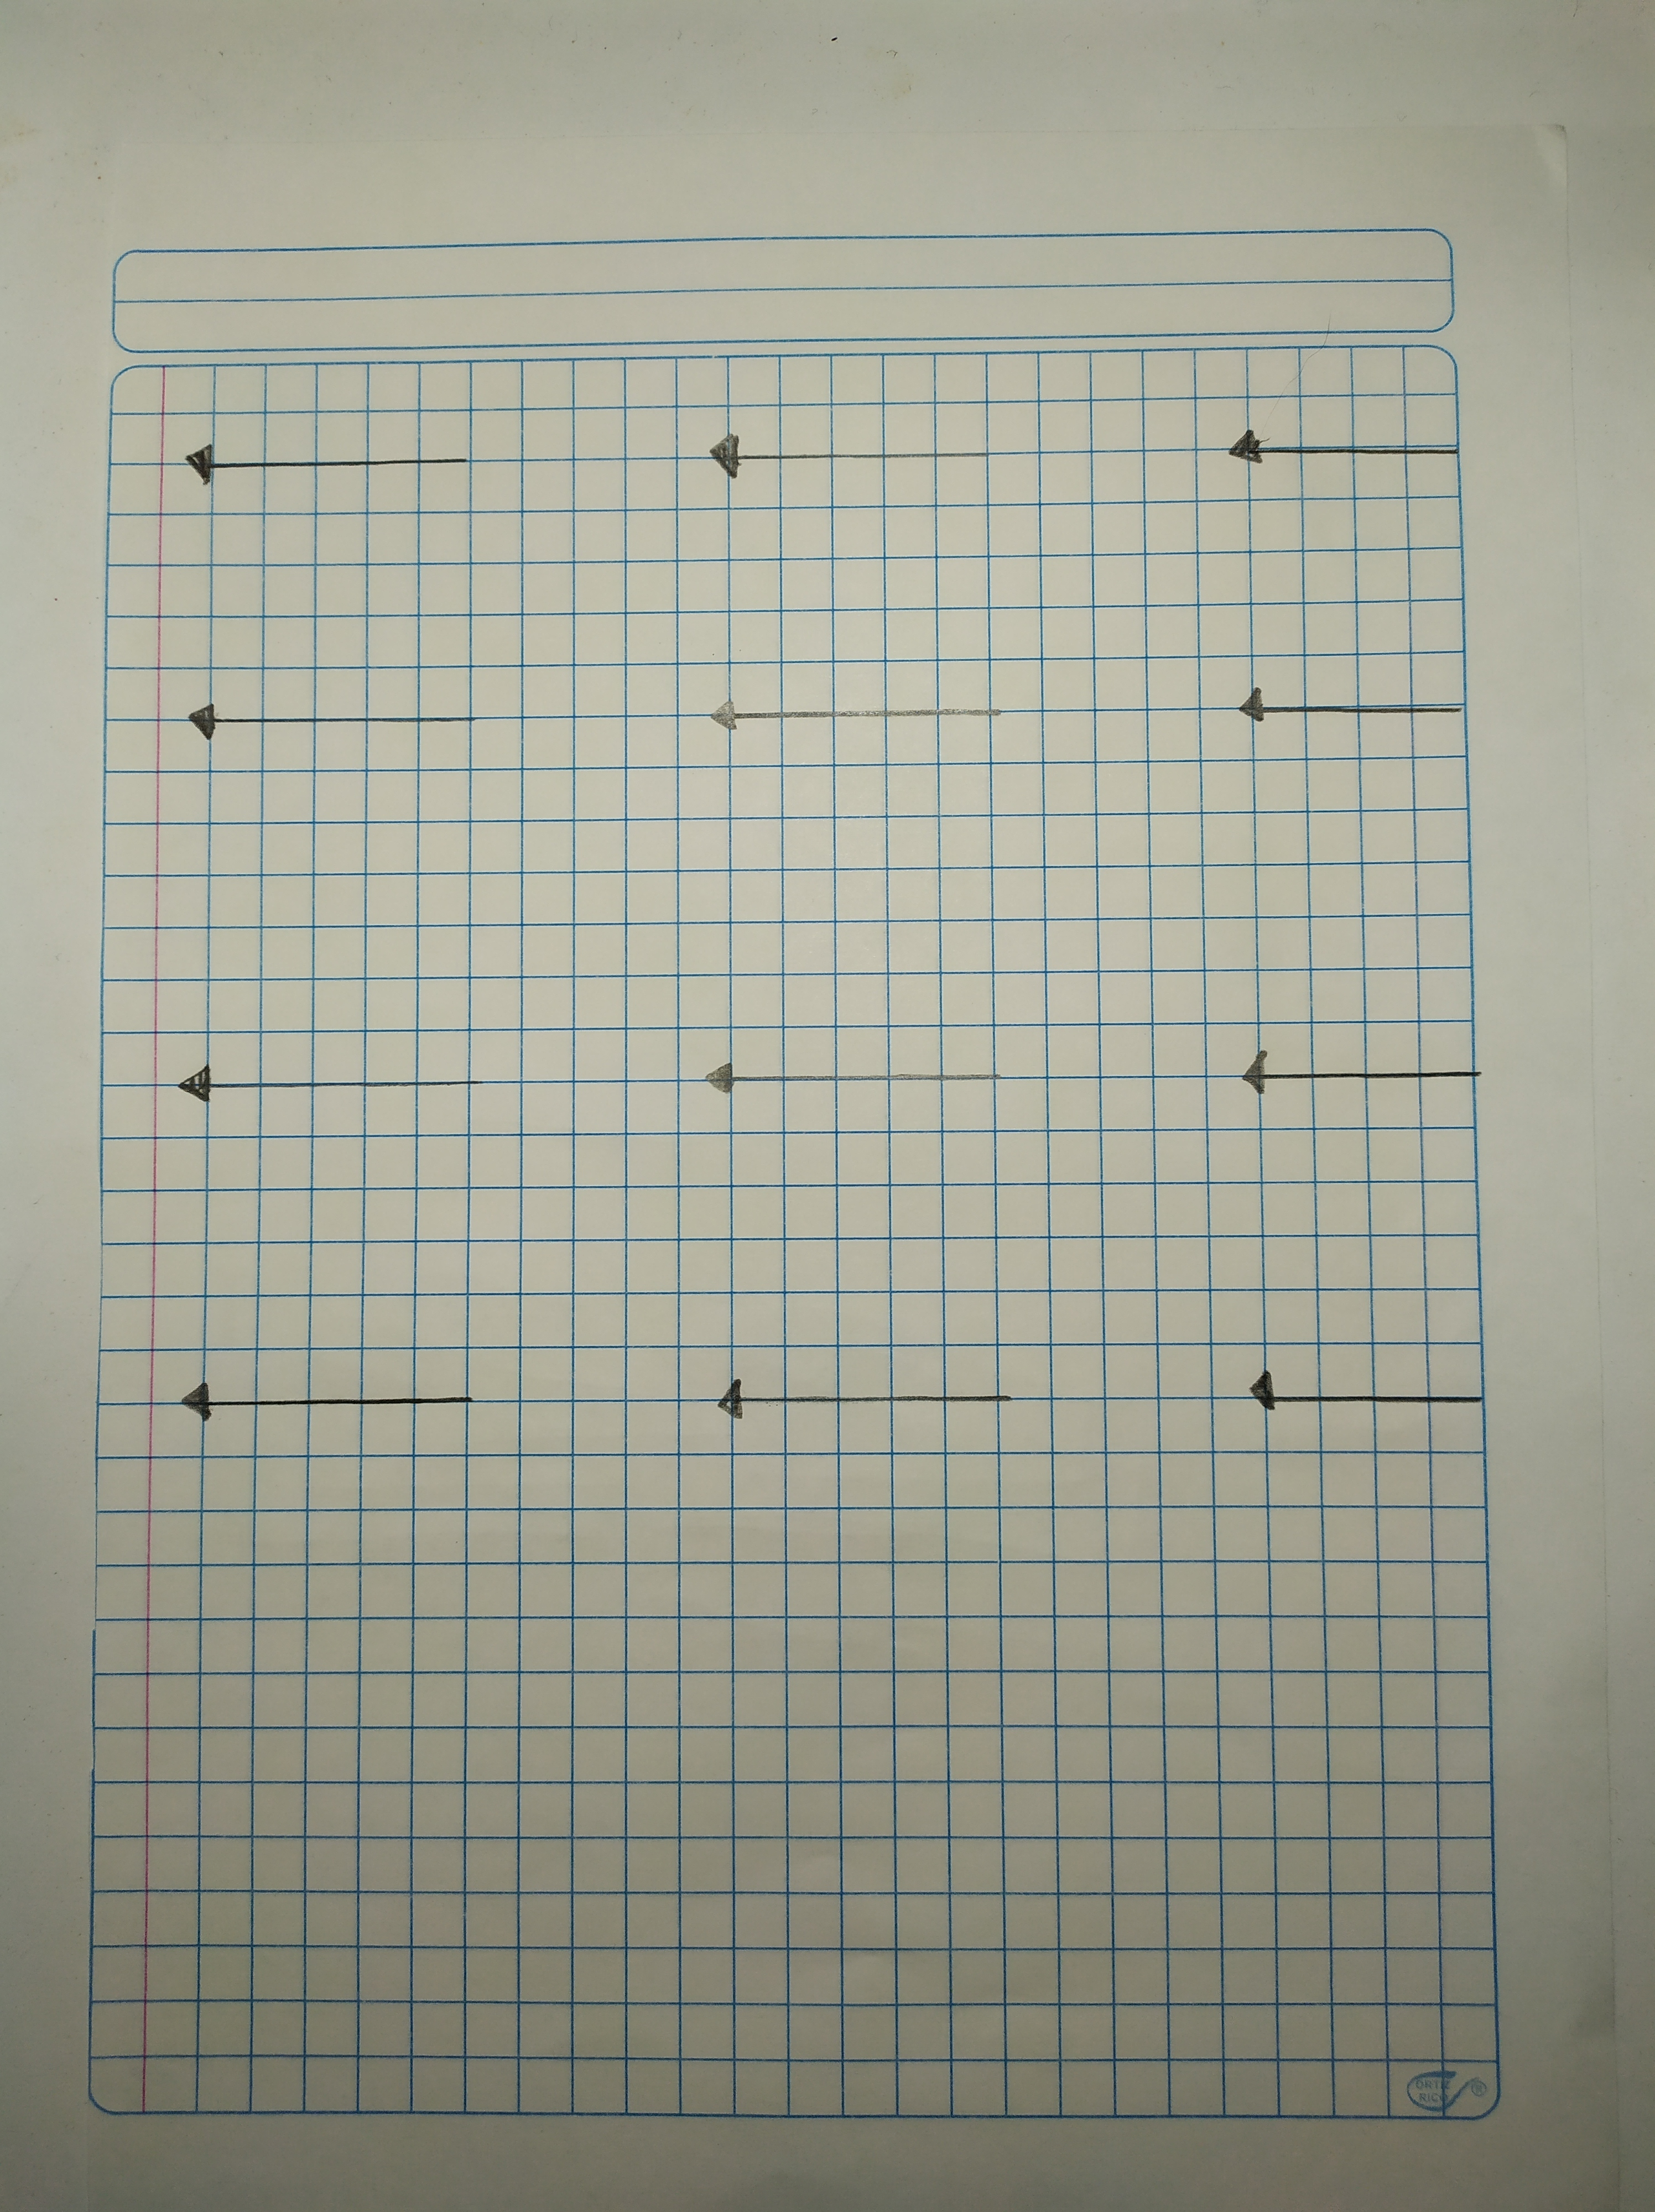arrow_line_left: (690, 1359, 1038, 1440), (678, 421, 1027, 500), (148, 431, 501, 506), (669, 1050, 1031, 1117), (163, 1055, 516, 1119), (162, 1371, 502, 1437), (1226, 1355, 1512, 1434), (162, 690, 501, 751), (687, 690, 1040, 745), (1217, 1039, 1512, 1105), (1208, 424, 1483, 490), (1226, 676, 1481, 745)
